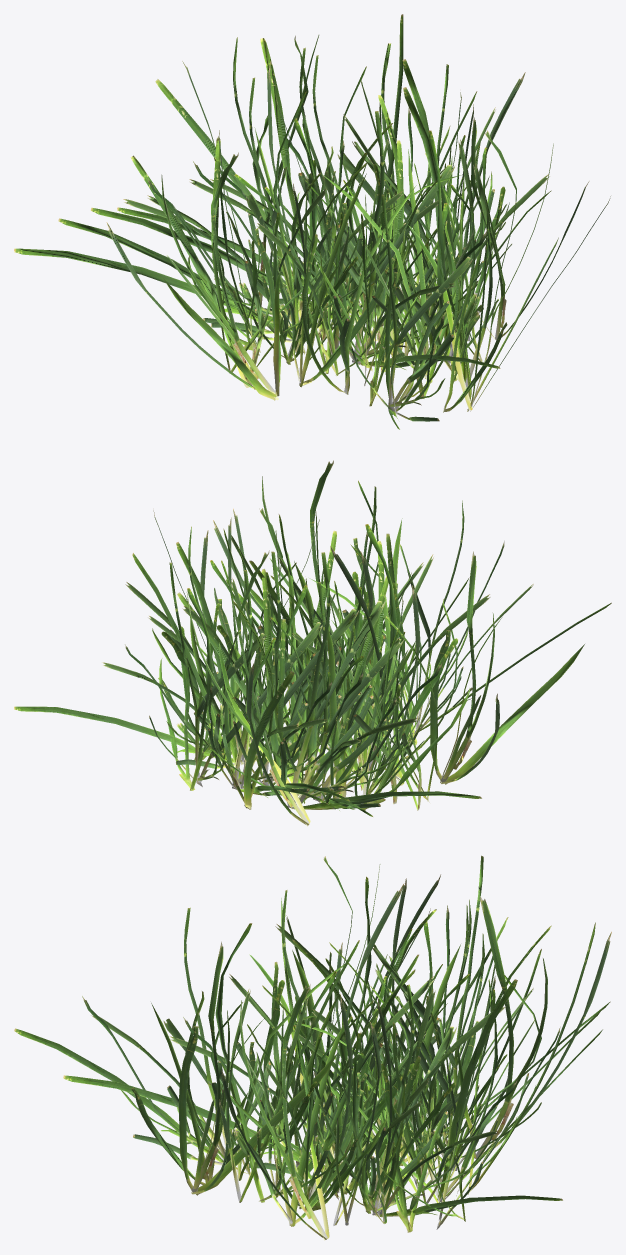
Rendered from Grass_Patch_Green_Tall.dae.
The picture shows the model from 3 angles, top to bottom: view 1: azimuth 30°, elevation 25°; view 2: azimuth 150°, elevation 25°; view 3: azimuth 270°, elevation 25°; orthographic projection. The views are drawn at different scales.
Visible parts, largest first — view 1: grass_patch_green_tall; view 2: grass_patch_green_tall; view 3: grass_patch_green_tall.
Boxes of the visible parts, box(x1,y1,x2,y2) form: grass_patch_green_tall: box(14, 14, 610, 429); grass_patch_green_tall: box(14, 460, 611, 826); grass_patch_green_tall: box(14, 855, 611, 1240).
Bounding box in the file's own units: 0.2204 × 0.2366 × 0.1309.
